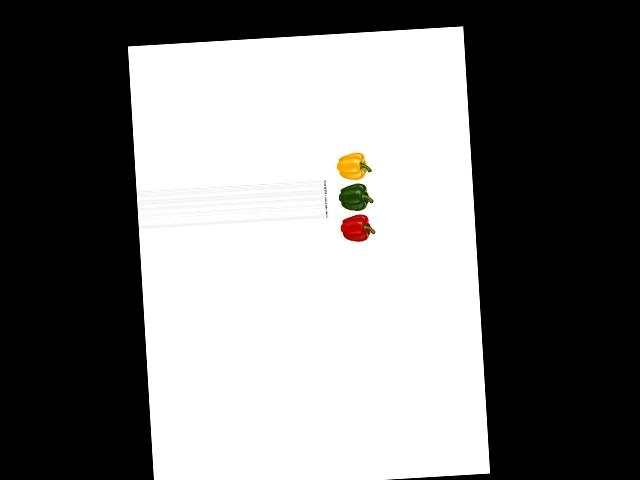bell_pepper: (333, 150, 371, 182)
